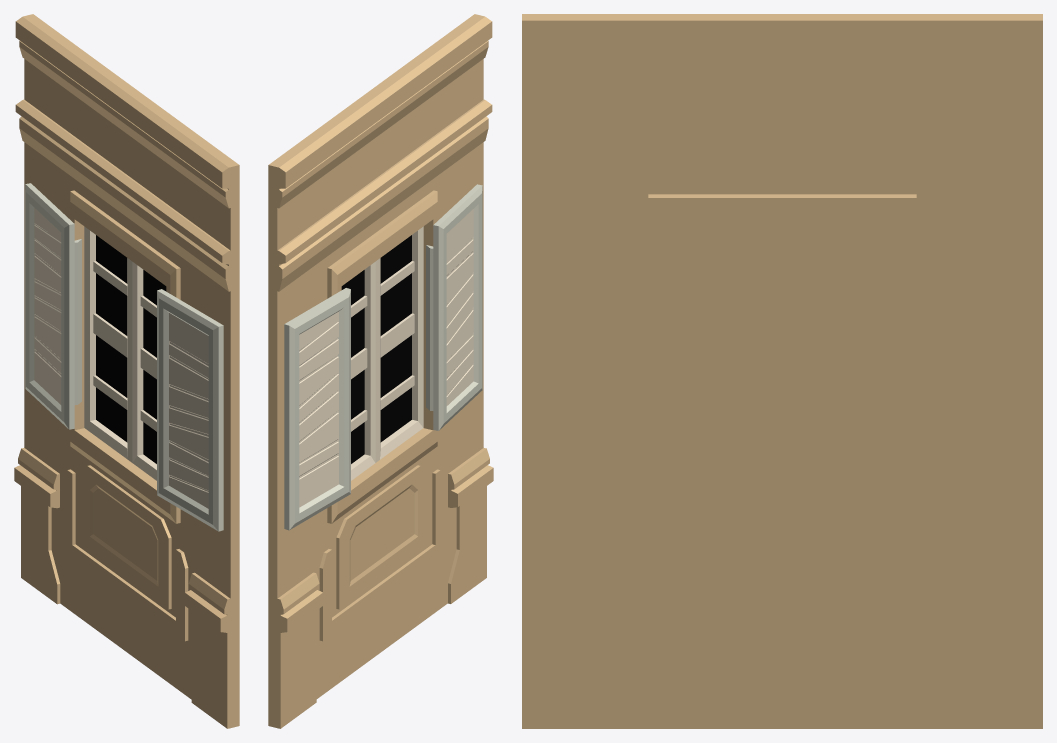
Rendered from WallHole_3_C.fbx.
3 renders of one model, left to right at view 1: azimuth 30°, elevation 25°; view 2: azimuth 150°, elevation 25°; view 3: azimuth 270°, elevation 25°, orthographic. The views are drawn at different scales.
Parts seen in each view (by area): view 1: WallHole_3_C; view 2: WallHole_3_C; view 3: WallHole_3_C.
Part boxes in pixels (x1,y1,x2,y2): WallHole_3_C: (14,14,239,728); WallHole_3_C: (268,14,493,728); WallHole_3_C: (522,14,1042,728).
Size of the model in its own units: 17.28 by 200 by 300.
